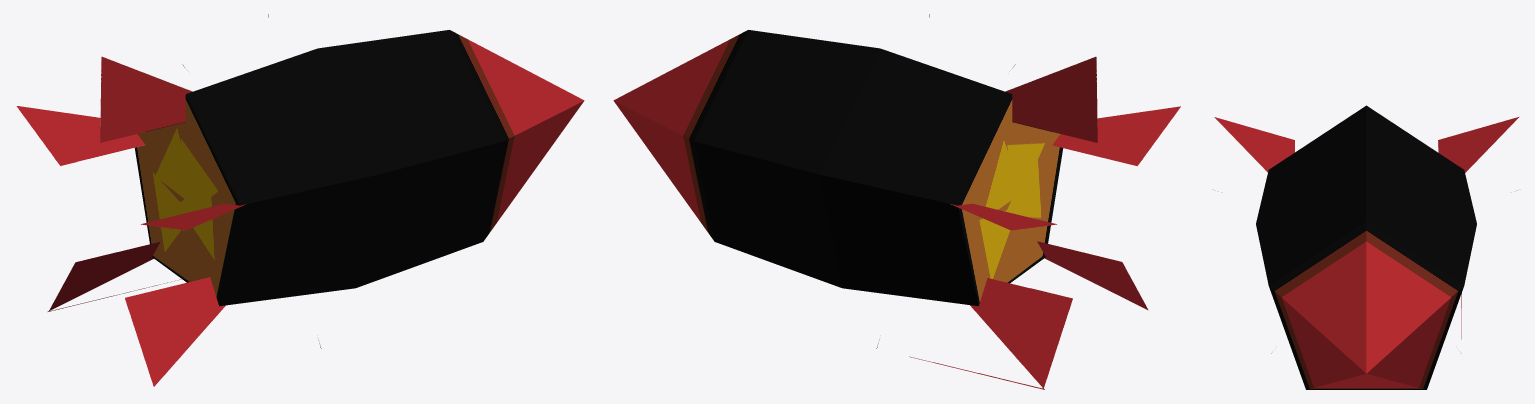
Rendered from rocket.fbx.
The picture shows the model from 3 angles, left to right: view 1: azimuth 30°, elevation 25°; view 2: azimuth 150°, elevation 25°; view 3: azimuth 270°, elevation 25°; orthographic projection. The views are drawn at different scales.
Parts seen in each view (by area): view 1: rocket; view 2: rocket; view 3: rocket.
Boxes of the visible parts, x1,y1,x2,y2 form: rocket: (16, 14, 584, 386); rocket: (613, 14, 1180, 389); rocket: (1214, 105, 1519, 389).
Size of the model in its own units: 183 by 107 by 113.
